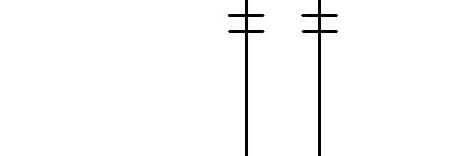115_buffer: (301, 14, 338, 33), (228, 14, 265, 33)
